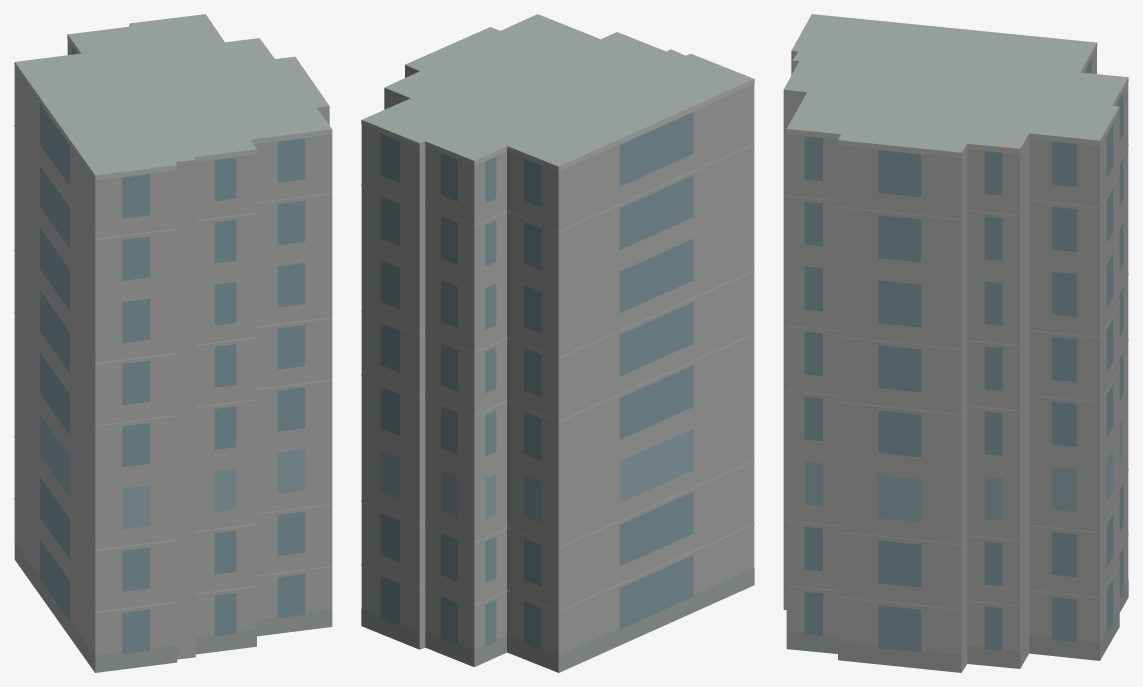
Rendered from survey-upis-32957831.glb.
3 views of the same model, side by side, from view 1: azimuth 30°, elevation 25°; view 2: azimuth 150°, elevation 25°; view 3: azimuth 270°, elevation 25° (orthographic). The views are drawn at different scales.
Parts seen in each view (by area): view 1: survey-upis-32957831.tmp; view 2: survey-upis-32957831.tmp; view 3: survey-upis-32957831.tmp.
Boxes of the visible parts, <box> form: survey-upis-32957831.tmp: <box>14,14,332,672</box>; survey-upis-32957831.tmp: <box>361,14,754,672</box>; survey-upis-32957831.tmp: <box>783,14,1128,672</box>.
Size of the model in its own units: 13.98 by 24.4 by 14.69.
